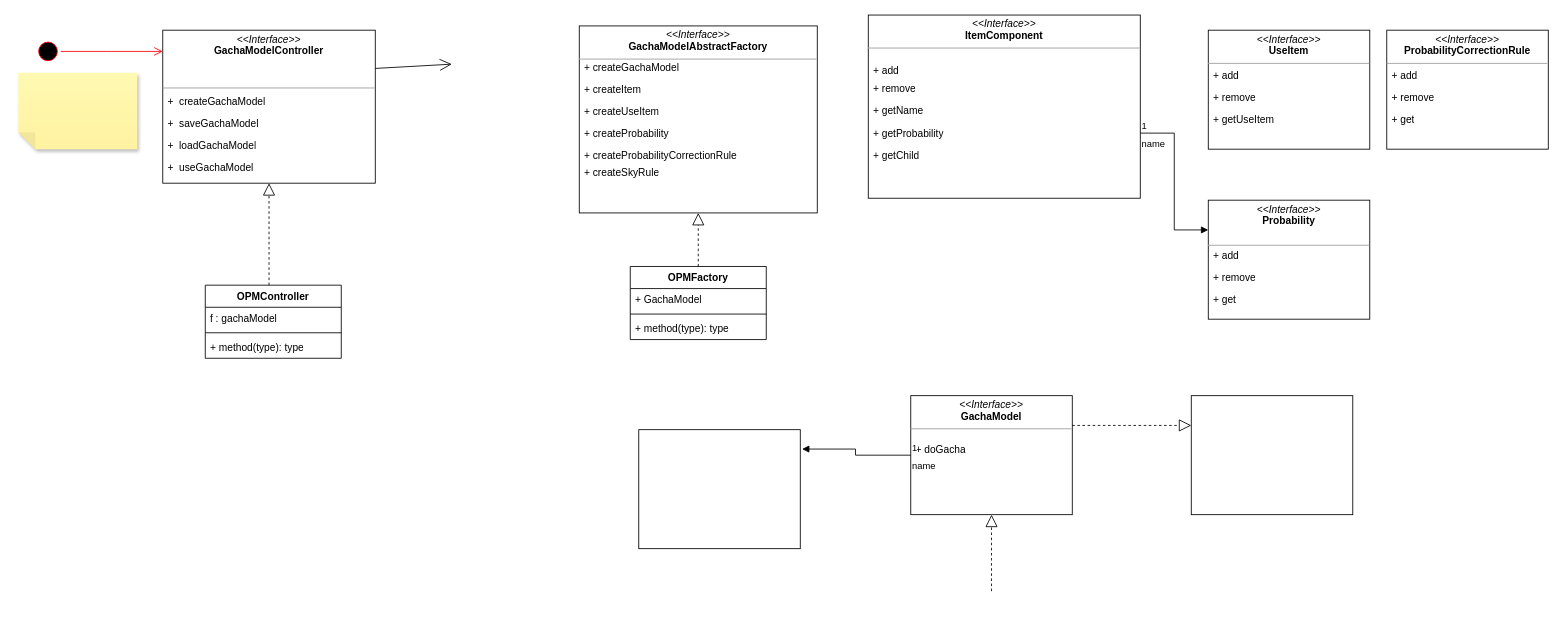
This 1563x618 diagram has some shape labels left out. Each missing label, with the centre of its shape:
"<<Interface>> GachaAns + method1(Type): Type + method2(Type, Type): Type" goes at point (719, 489).
"<<Interface>> GachaModelDecorator //abstract" goes at point (1271, 455).
"View에서 event발생 시" goes at point (78, 112).
